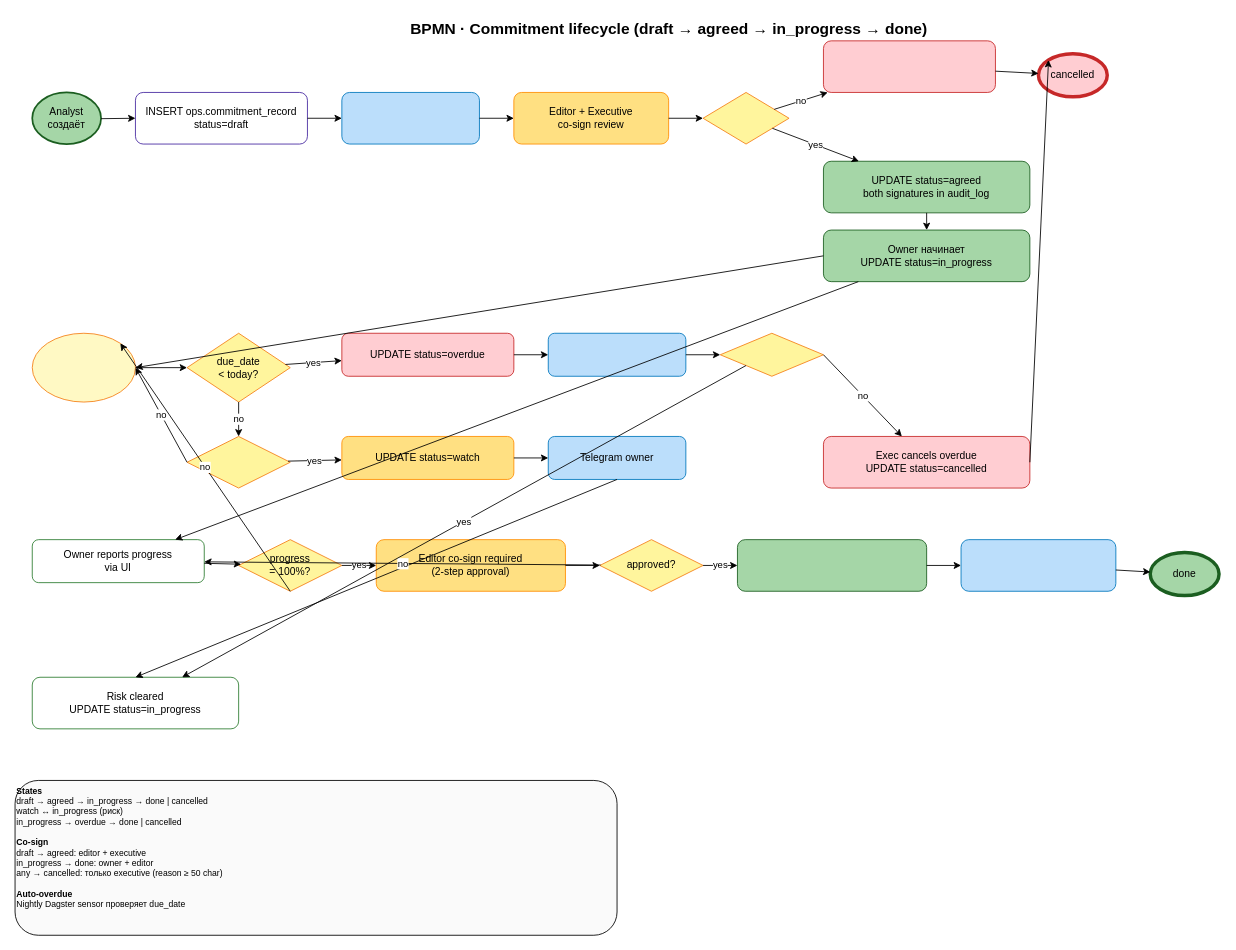
This 1236x950 diagram has some shape labels left out. The centre of each missing label's shape, as x and y in pixels:
"agreed?" belongs at [745,118].
"catch up?" belongs at [771,354].
"Email + Telegram co-owners" belongs at [410,118].
"Email all co-owners + executive" belongs at [1038,565].
"Nightly job (Dagster sensor)" belongs at [83,367].
"risk reported?" belongs at [238,462].
"Telegram + email owner + exec" belongs at [616,354].
"UPDATE status=cancelled reason ≥ 50 char" belongs at [909,66].
"UPDATE status=done attach proof file MinIO" belongs at [832,565].
